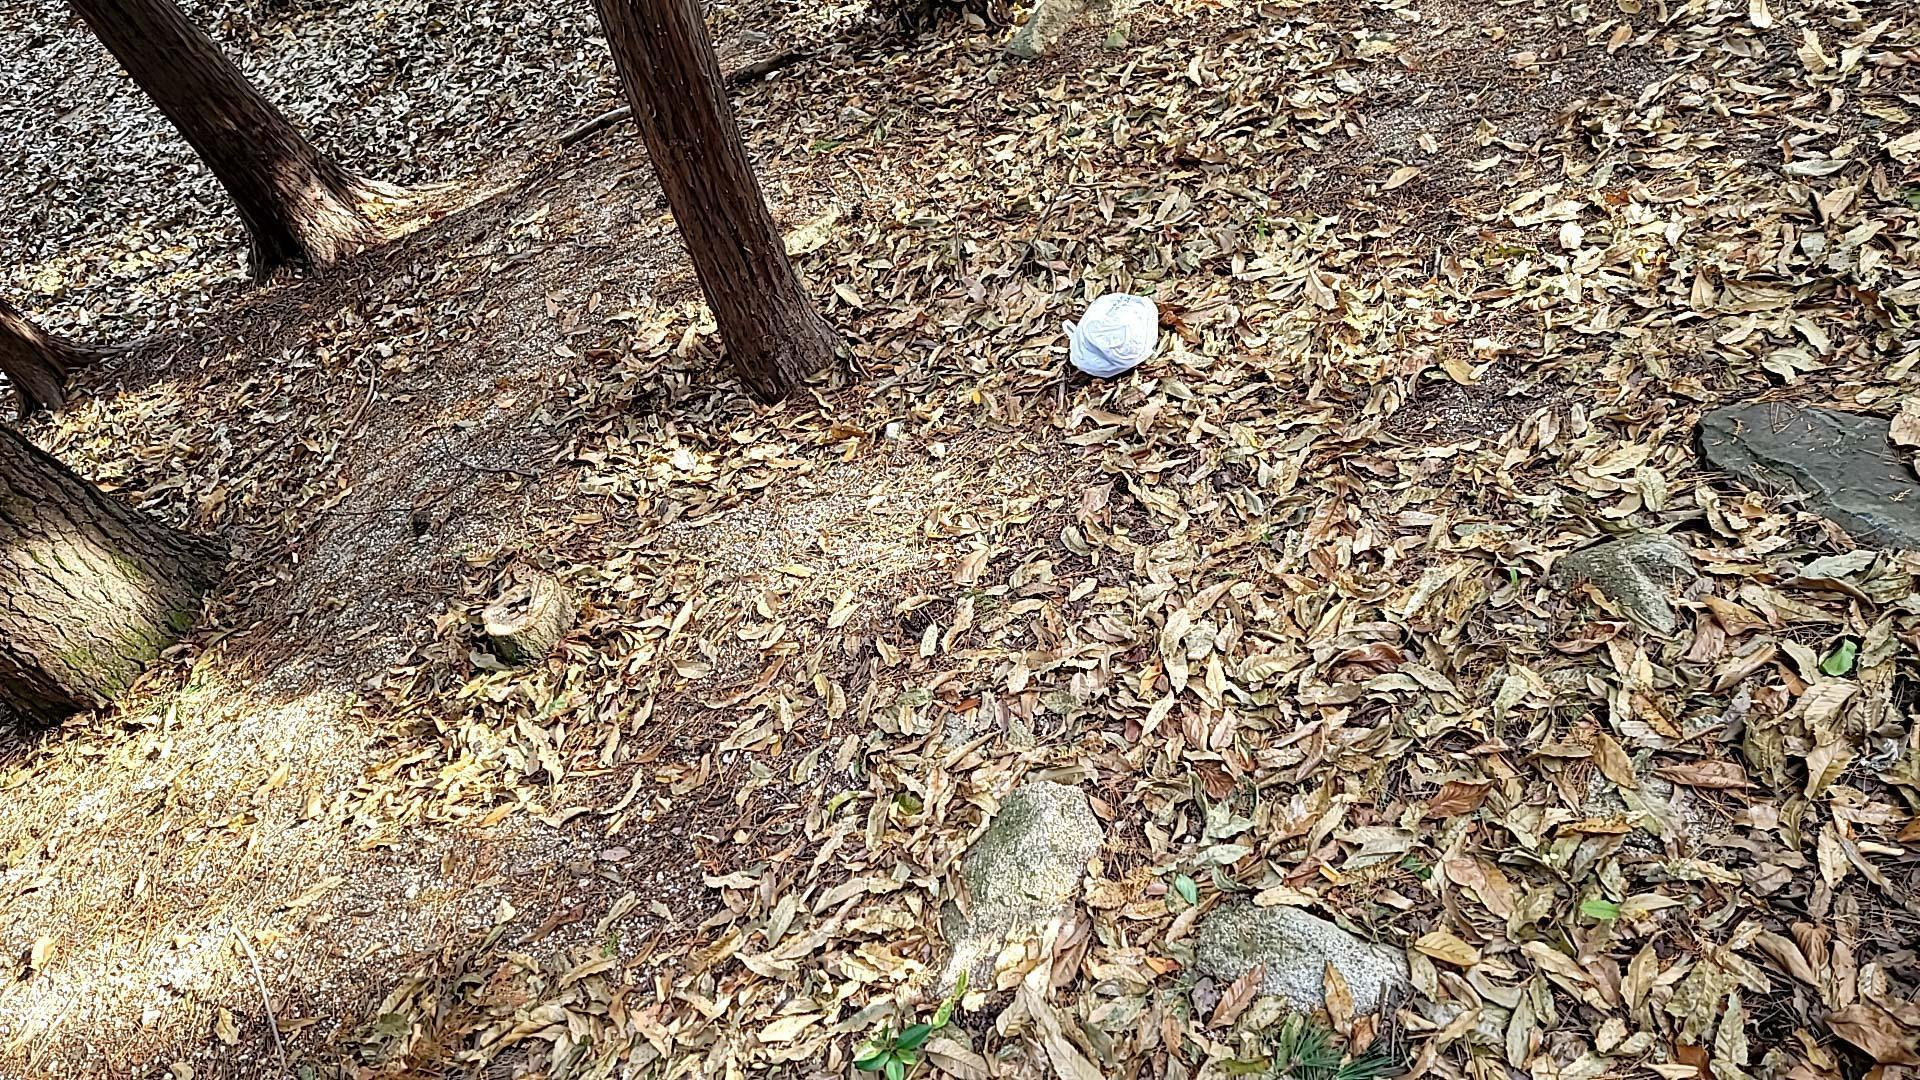white_bag: (1052, 286, 1163, 380)
